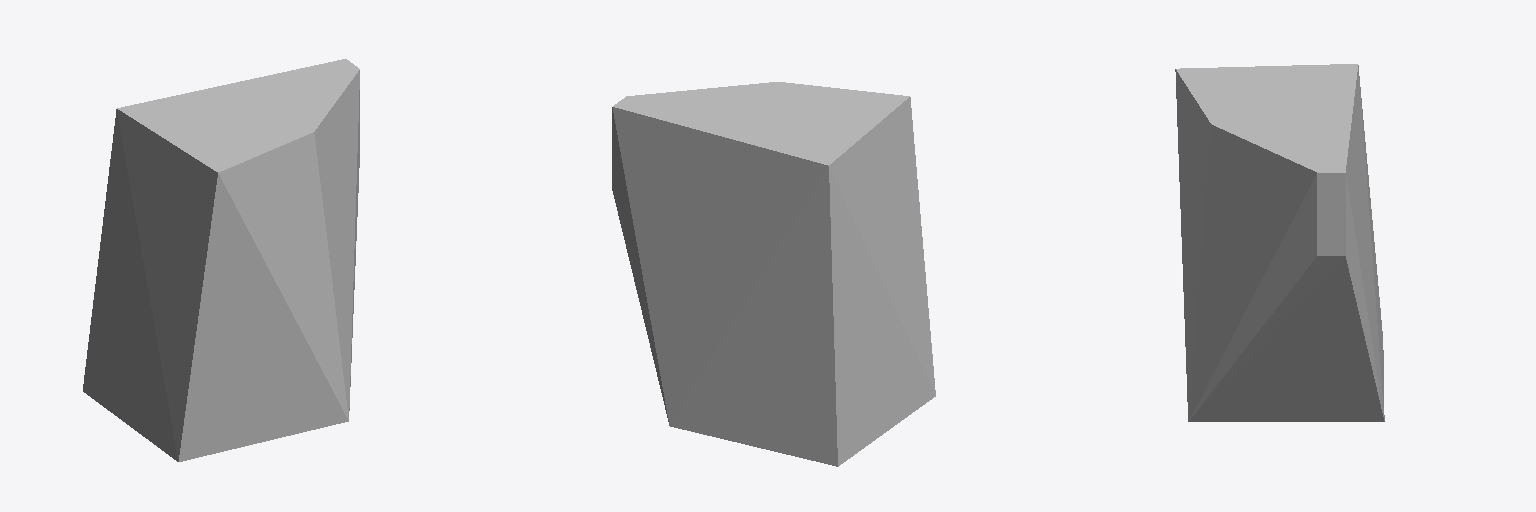
The model's file is raw_model_collision_11.obj.
3 views of the same model, side by side, from view 1: azimuth 30°, elevation 25°; view 2: azimuth 150°, elevation 25°; view 3: azimuth 270°, elevation 25° (orthographic).
Size of the model in its own units: 0.0761 by 0.0849 by 0.0562.